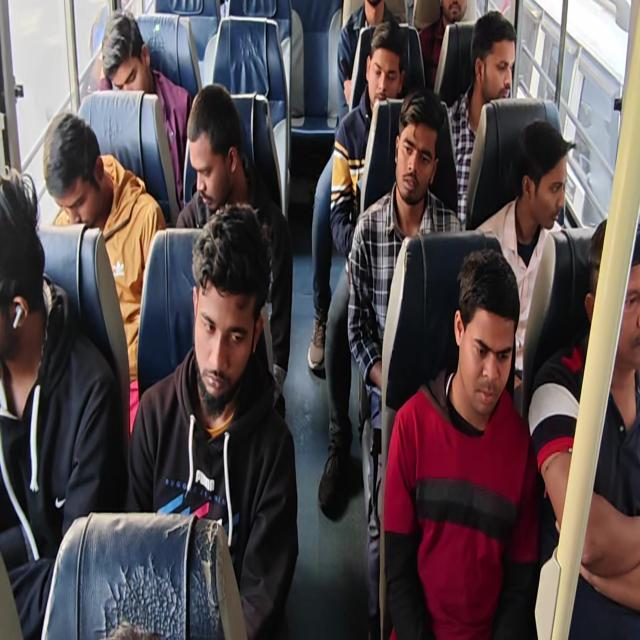person: (1, 1, 638, 638), (126, 202, 299, 638), (346, 88, 463, 637), (383, 247, 541, 638), (0, 165, 125, 638), (528, 216, 639, 638), (175, 82, 293, 420), (43, 112, 166, 436), (307, 18, 407, 376), (474, 119, 575, 402), (99, 10, 193, 207), (444, 10, 517, 228), (336, 0, 397, 122), (418, 0, 468, 91)
